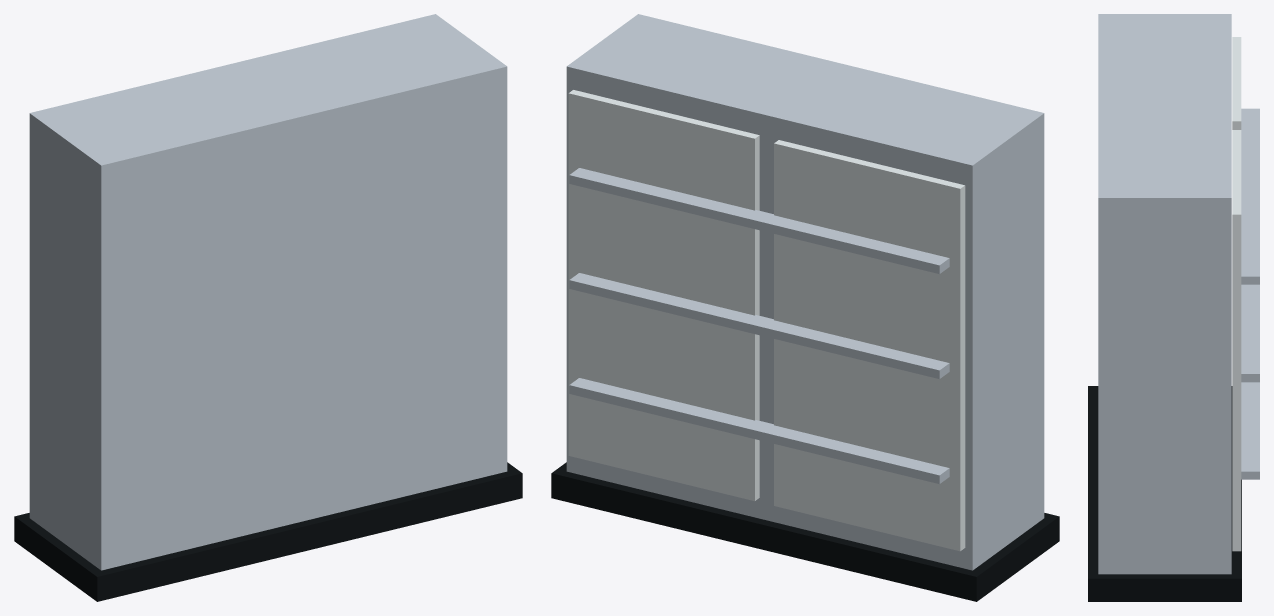
The model's file is medical_cabinet_proxy.obj.
The picture shows the model from 3 angles, left to right: view 1: azimuth 30°, elevation 25°; view 2: azimuth 150°, elevation 25°; view 3: azimuth 270°, elevation 25°; orthographic projection. The views are drawn at different scales.
Parts seen in each view (by area): view 1: medical_cabinet_proxy; view 2: medical_cabinet_proxy; view 3: medical_cabinet_proxy.
Part boxes in pixels (<box>): medical_cabinet_proxy: <box>14,14,522,601</box>; medical_cabinet_proxy: <box>551,14,1059,601</box>; medical_cabinet_proxy: <box>1088,14,1259,601</box>.
Bounding box in the file's own units: 1.78 × 1.72 × 0.67.
